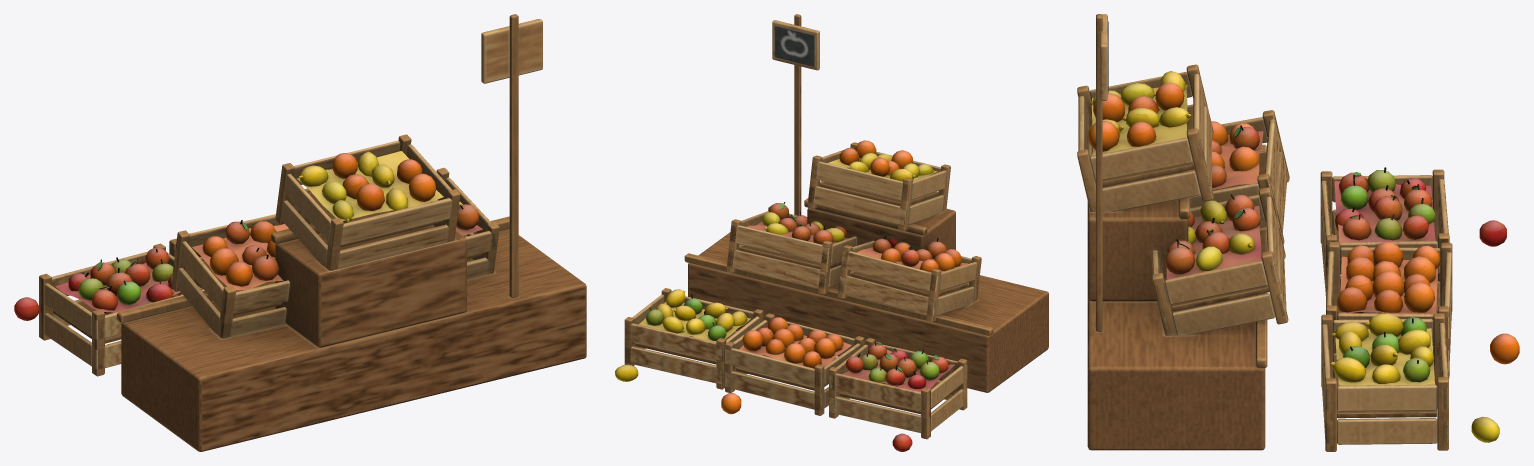
Rendered from fruit-pyramid.fbx.
3 renders of one model, left to right at view 1: azimuth 30°, elevation 25°; view 2: azimuth 150°, elevation 25°; view 3: azimuth 270°, elevation 25°, orthographic. The views are drawn at different scales.
Visible parts, largest first — view 1: Body; view 2: Body; view 3: Body.
Part boxes in pixels (left/top/right/bottom): Body: left=14, top=14, right=586, bottom=451; Body: left=615, top=14, right=1048, bottom=451; Body: left=1077, top=14, right=1519, bottom=451.
Bounding box in the file's own units: 1.32 × 1.14 × 1.15.
